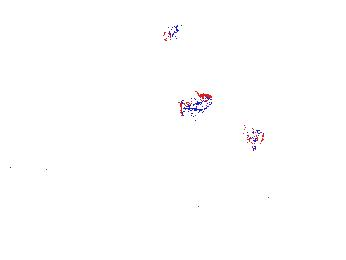X-ray fish: (232, 116, 266, 154)
red belly glassfish: (179, 94, 216, 111), (159, 24, 181, 41)
